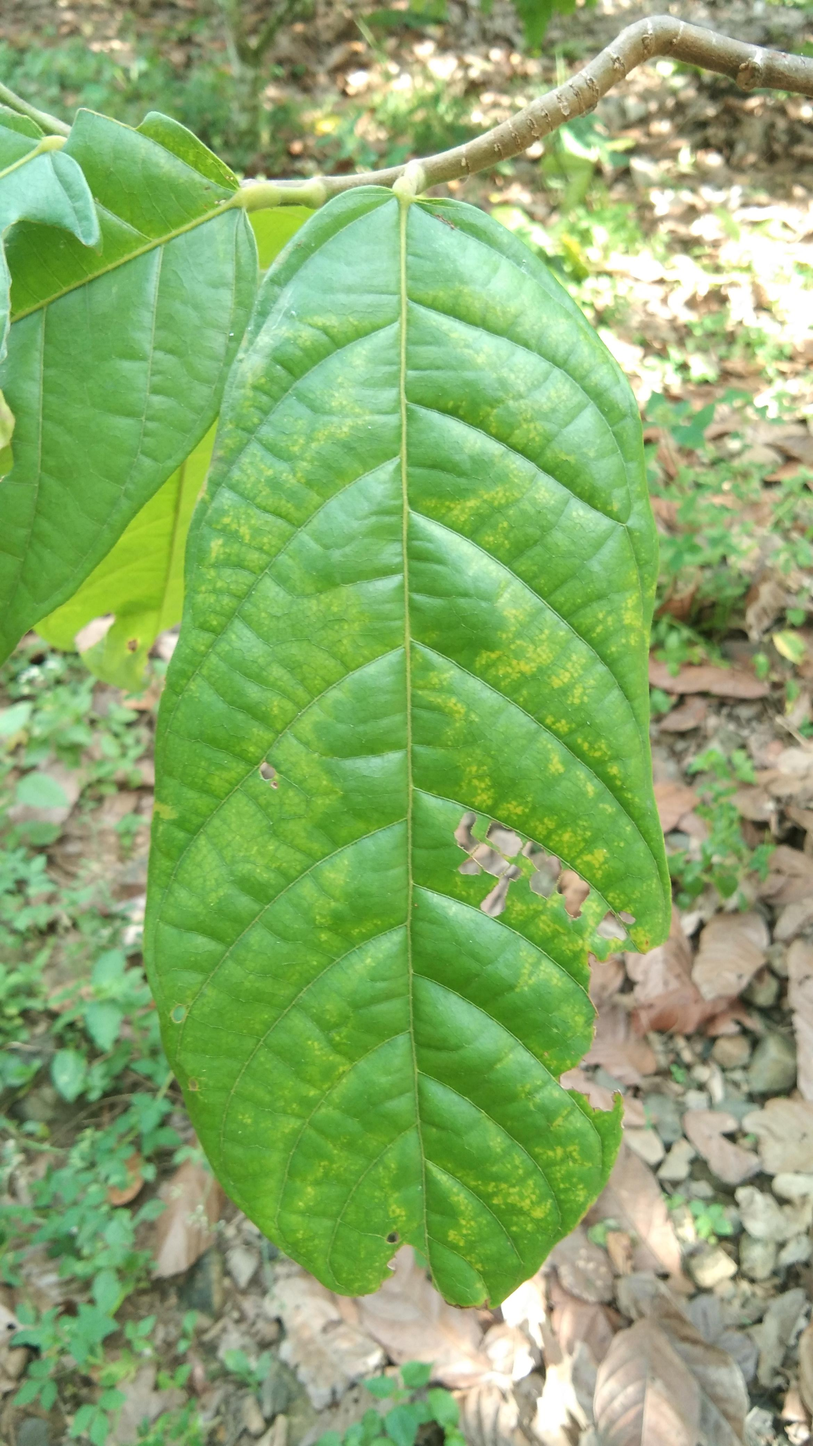deficiencia_potasio: (133, 168, 675, 1323)
